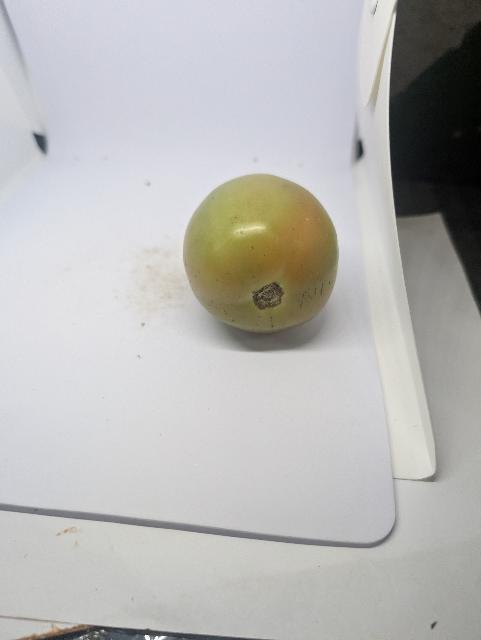breaker: (179, 171, 344, 336)
